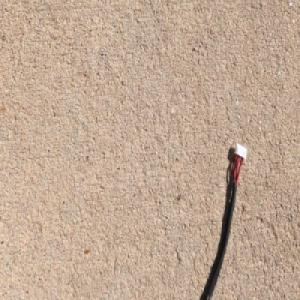Wire: (196, 140, 248, 300)
